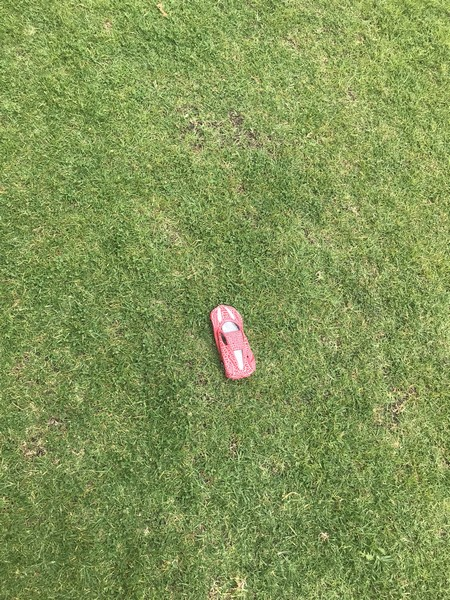RC: (208, 303, 260, 382)
